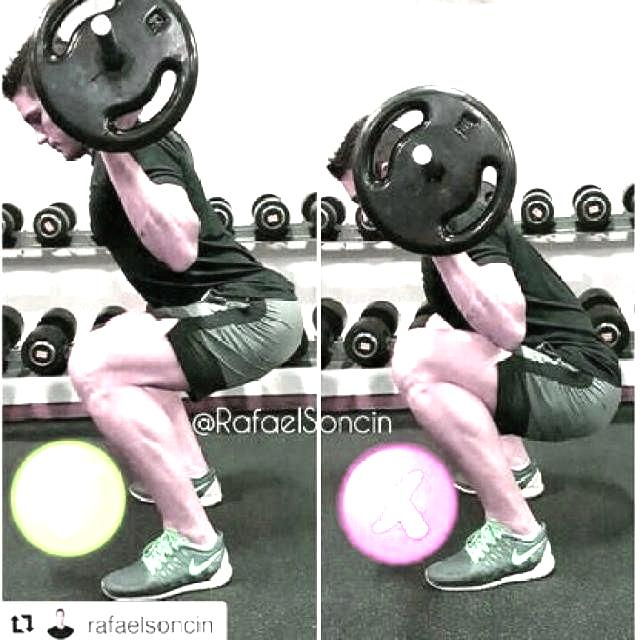barbell: (344, 75, 530, 262)
